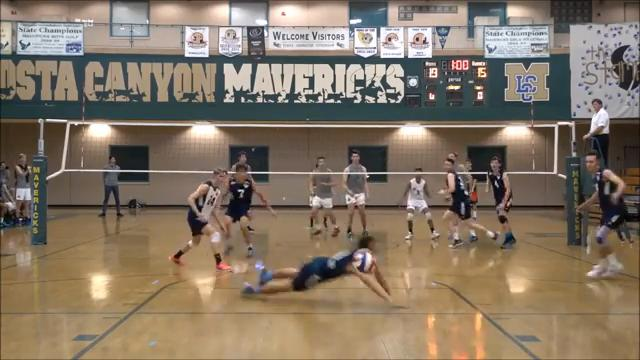Dig: (231, 231, 404, 309)
Player: (169, 168, 230, 270), (576, 152, 625, 277), (440, 158, 497, 247), (224, 164, 274, 256), (401, 168, 439, 241), (485, 156, 515, 248), (309, 156, 339, 236), (343, 150, 368, 239), (447, 152, 472, 186), (230, 151, 251, 178), (309, 182, 314, 207)
ball: (352, 247, 376, 273)
